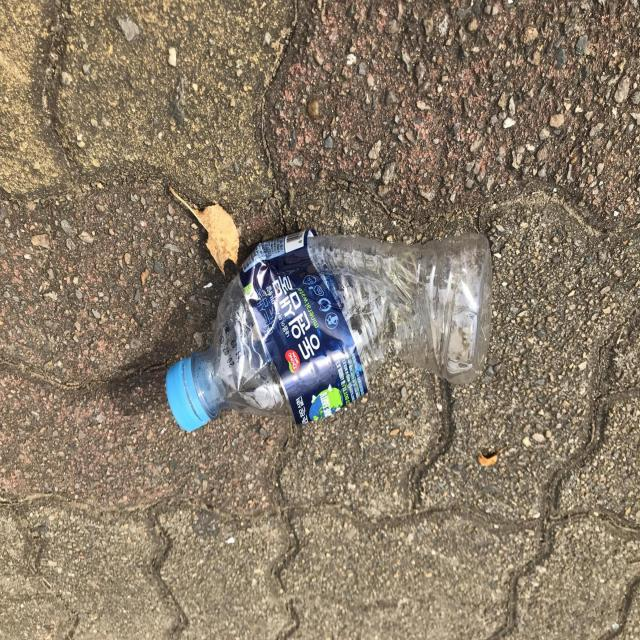plastic: (166, 230, 493, 431)
